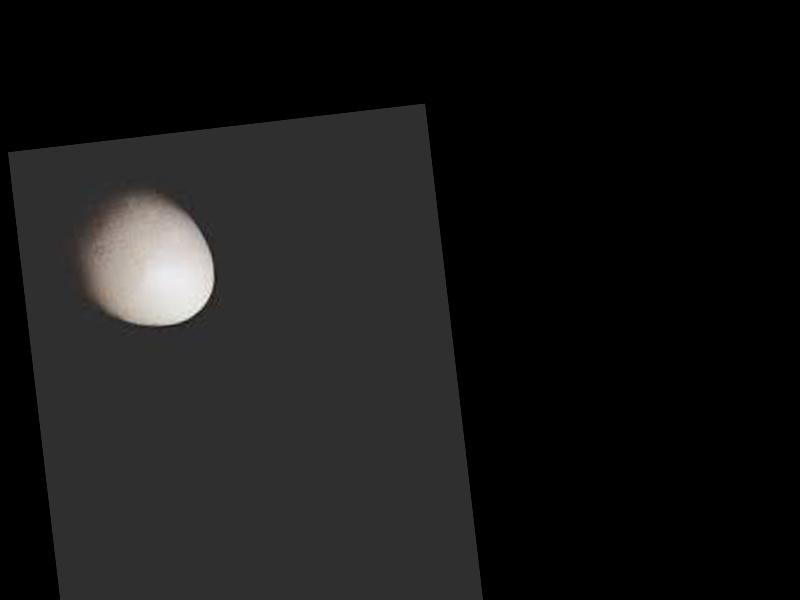Eggs: (66, 176, 221, 334)
